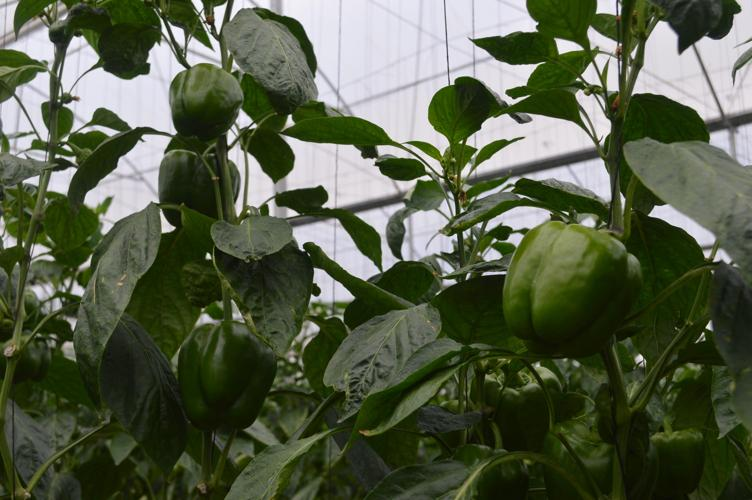BellPepper: (501, 219, 647, 357), (170, 322, 276, 429), (474, 360, 554, 450), (157, 151, 241, 220), (167, 63, 242, 135), (648, 424, 707, 492), (4, 329, 51, 379)
